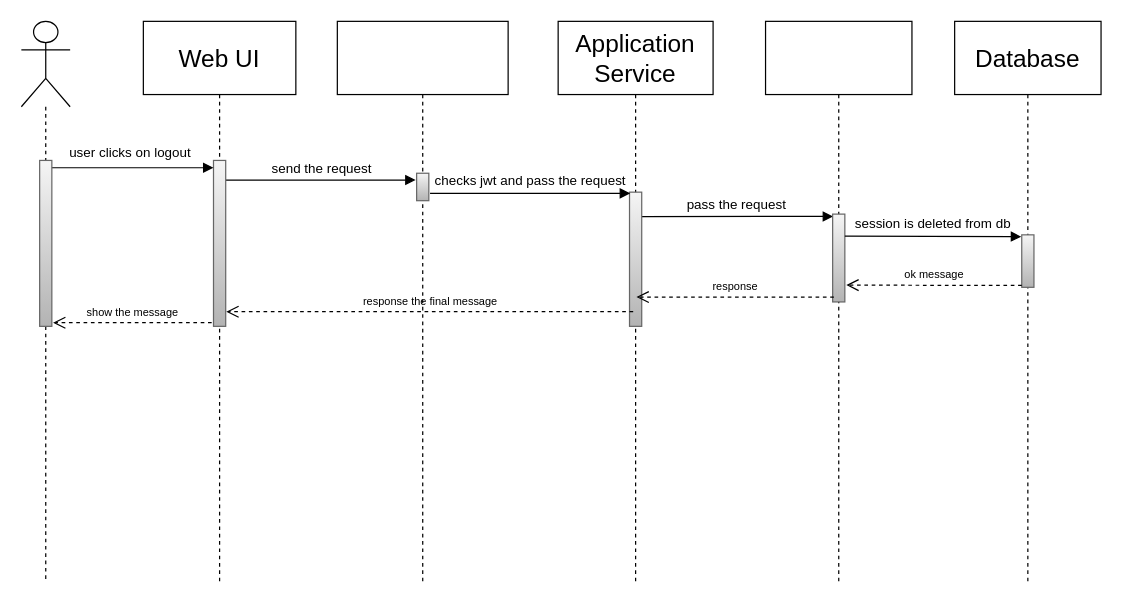
Image size: 1122x604. Some labels were removed from this diagram. Here are the shapes that lost their labels. From the top down, the box of each, then its label:
(336, 20, 508, 583): Middleware
(764, 20, 912, 583): Domain Service
